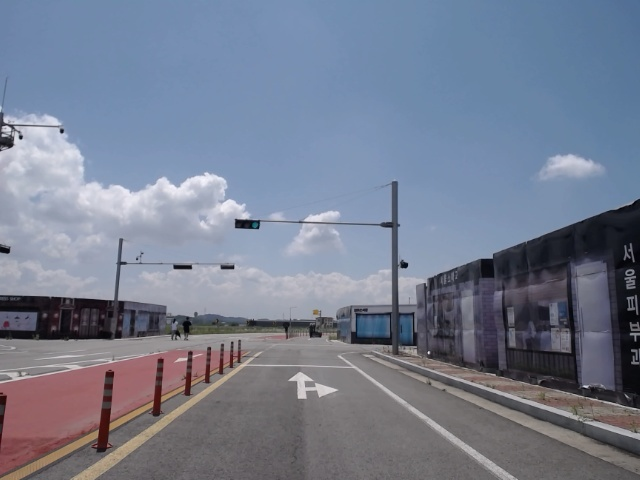green_3: (235, 219, 260, 229)
